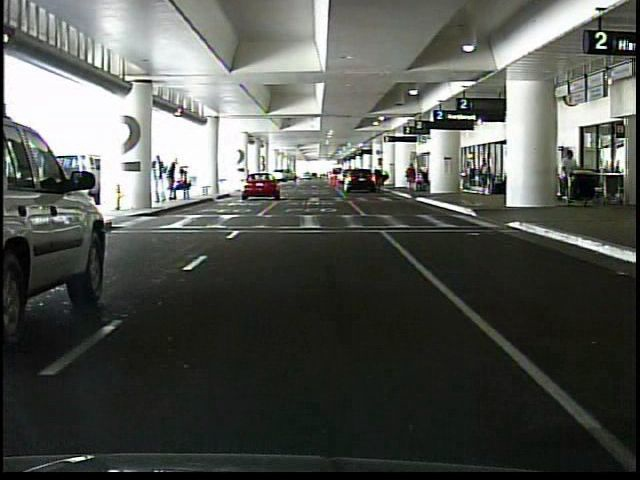person: (558, 149, 580, 205), (154, 152, 169, 204), (170, 169, 192, 201), (168, 159, 179, 201), (403, 162, 417, 193), (479, 161, 490, 197), (459, 162, 472, 191)
